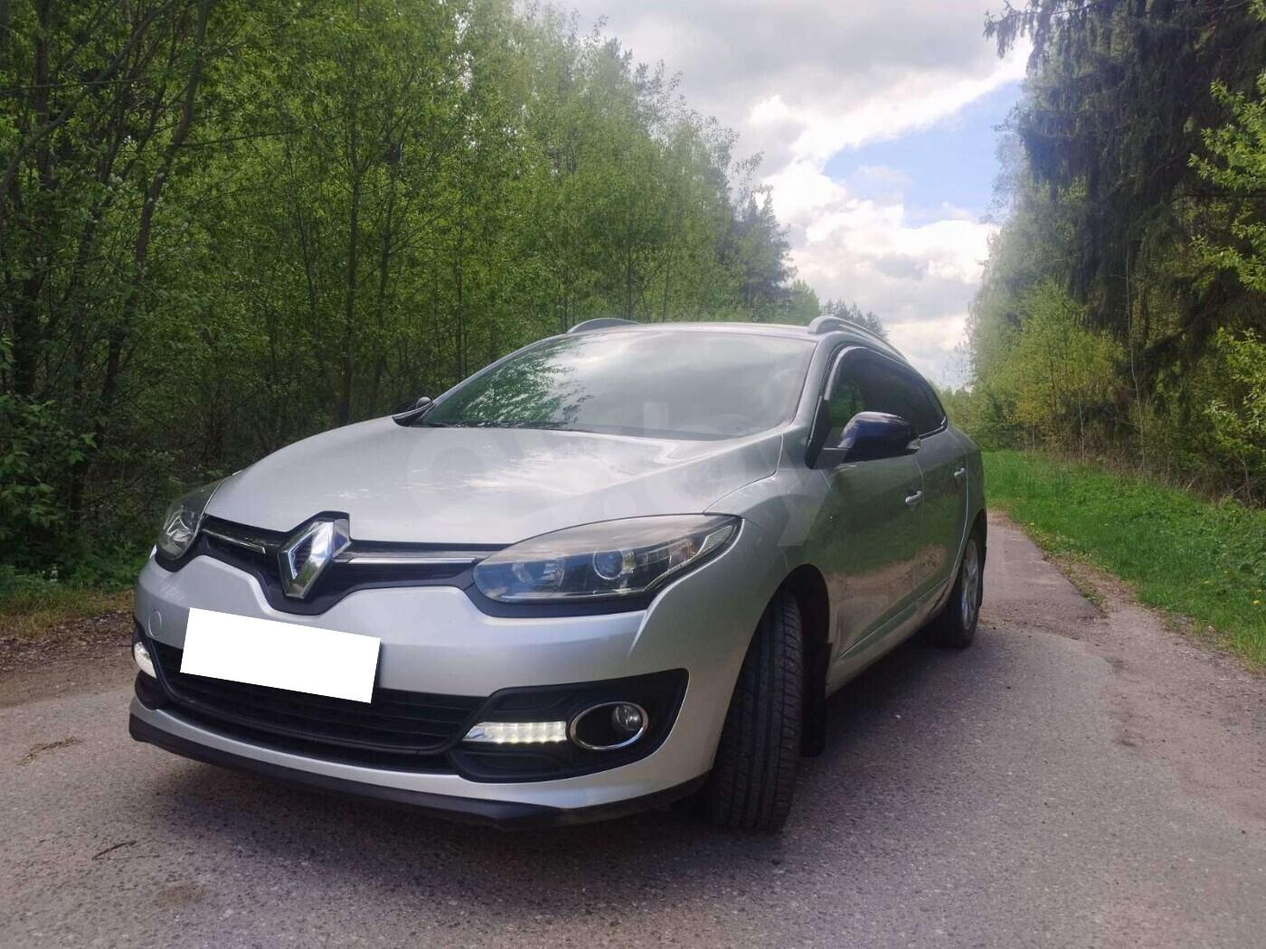Megane_2014-2016: (125, 316, 990, 838)
